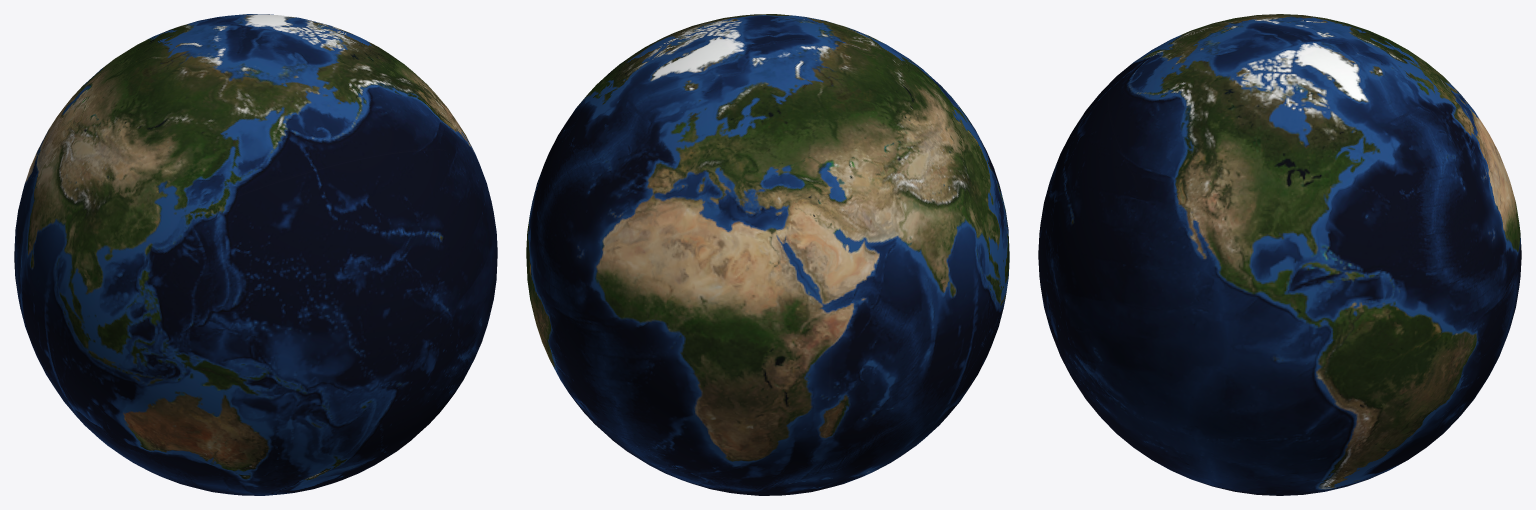
The model's file is Earth.glb.
3 views of the same model, side by side, from view 1: azimuth 30°, elevation 25°; view 2: azimuth 150°, elevation 25°; view 3: azimuth 270°, elevation 25° (orthographic).
Parts seen in each view (by area): view 1: Cube.001; view 2: Cube.001; view 3: Cube.001.
Part boxes in pixels (box(x1,y1,x2,y2)): Cube.001: box(14, 14, 497, 495); Cube.001: box(526, 14, 1009, 495); Cube.001: box(1038, 14, 1521, 495).
Bounding box in the file's own units: 1000 × 997 × 1000.
1 material, 1 textured.
